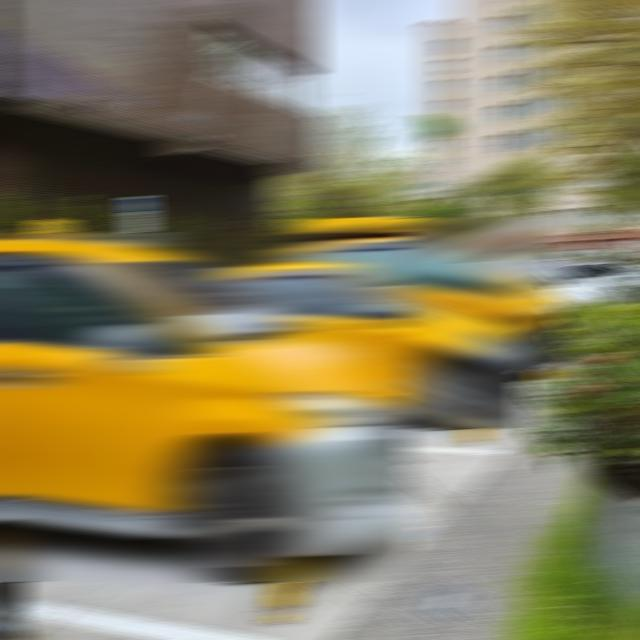Door: (0, 233, 411, 582), (220, 262, 527, 428)
Taxi: (280, 221, 558, 366)
